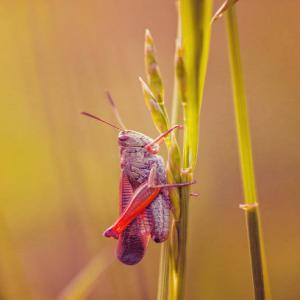locust: (62, 79, 212, 273)
